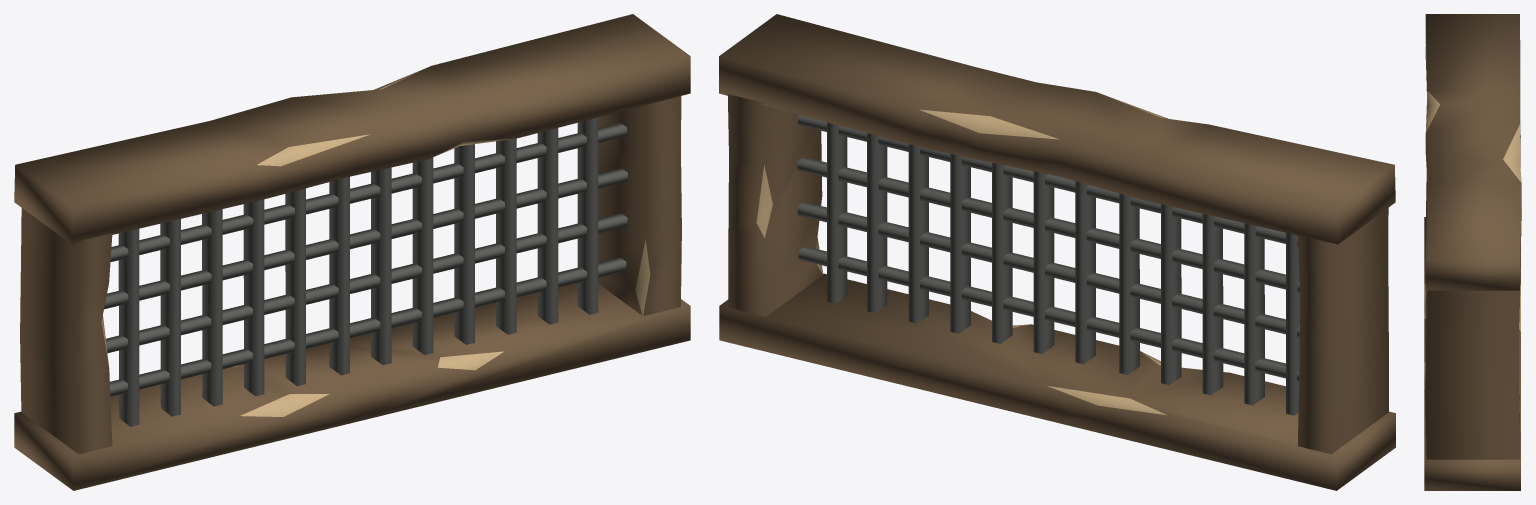
File: rpgpp_ag_window_02b.fbx
3 renders of one model, left to right at view 1: azimuth 30°, elevation 25°; view 2: azimuth 150°, elevation 25°; view 3: azimuth 270°, elevation 25°, orthographic. The views are drawn at different scales.
Parts seen in each view (by area): view 1: rpgpp_ag_window_02b; view 2: rpgpp_ag_window_02b; view 3: rpgpp_ag_window_02b.
Boxes of the visible parts, left/top/right/bottom form: rpgpp_ag_window_02b: left=14, top=14, right=690, bottom=490; rpgpp_ag_window_02b: left=719, top=14, right=1395, bottom=490; rpgpp_ag_window_02b: left=1424, top=14, right=1521, bottom=490.
Bounding box in the file's own units: 3.09 × 1.35 × 0.5156.
